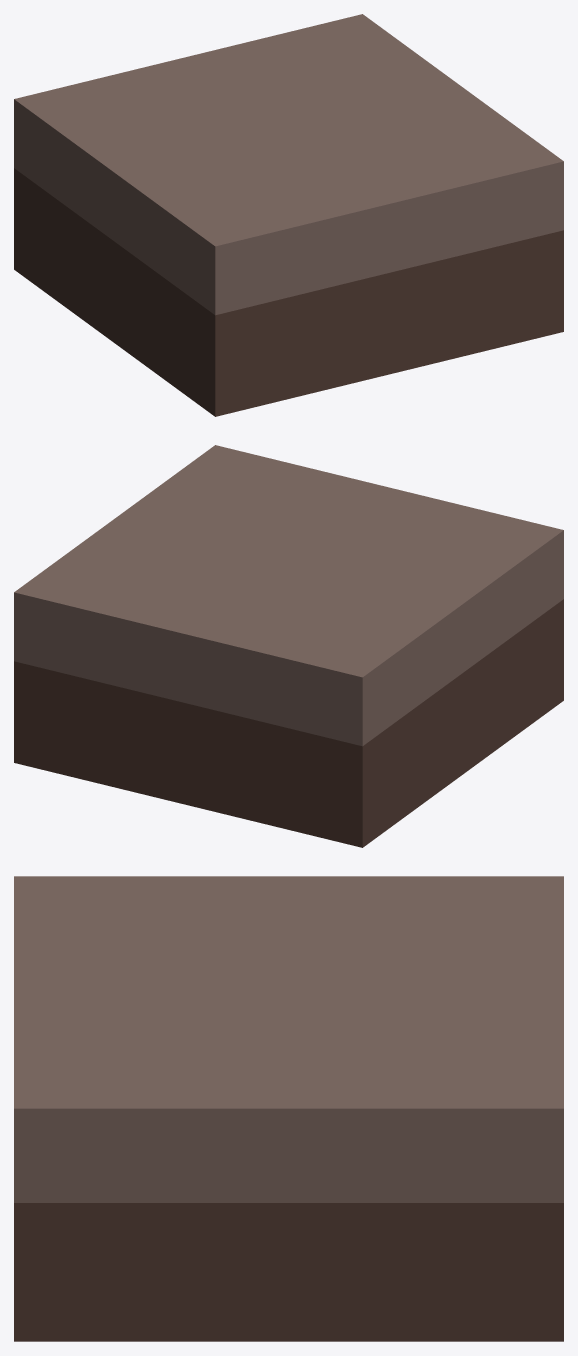
The model's file is WorkTop.fbx.
3 renders of one model, top to bottom at view 1: azimuth 30°, elevation 25°; view 2: azimuth 150°, elevation 25°; view 3: azimuth 270°, elevation 25°, orthographic. The views are drawn at different scales.
Parts seen in each view (by area): view 1: pCube1; view 2: pCube1; view 3: pCube1.
Part boxes in pixels (box(x1,y1,x2,y2)): pCube1: box(14, 14, 563, 416); pCube1: box(14, 445, 563, 847); pCube1: box(14, 876, 563, 1341).
Size of the model in its own units: 1 by 0.4672 by 1.
